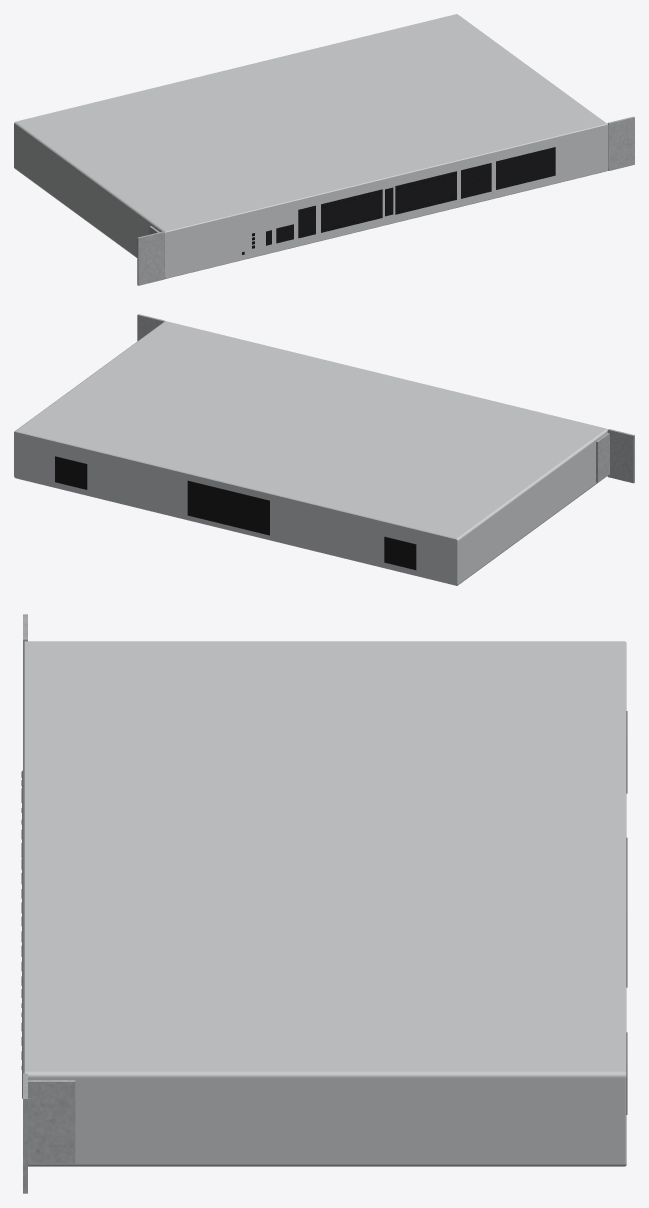
File: FG-121G.far.glb
3 views of the same model, one above another, from view 1: azimuth 30°, elevation 25°; view 2: azimuth 150°, elevation 25°; view 3: azimuth 270°, elevation 25° (orthographic). The views are drawn at different scales.
Parts seen in each view (by area): view 1: Shell_far; view 2: Shell_far; view 3: Shell_far.
Boxes of the visible parts, <box> form: Shell_far: <box>14,14,634,285</box>; Shell_far: <box>14,314,634,585</box>; Shell_far: <box>22,614,627,1193</box>.
Size of the model in its own units: 0.4826 by 0.044 by 0.2548.
Materials: 3 (2 with a texture image).
